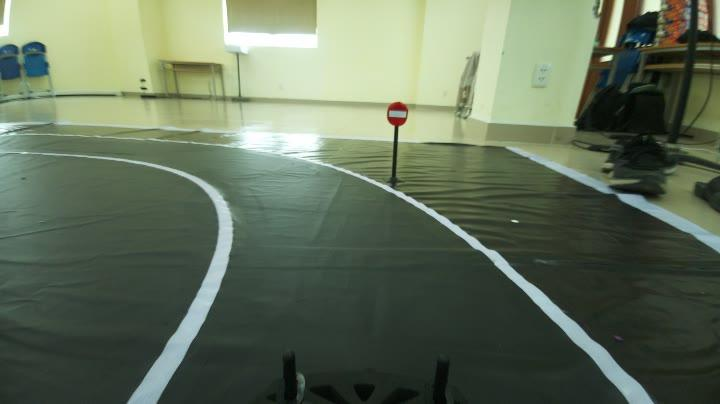no_entry: (384, 97, 414, 130)
